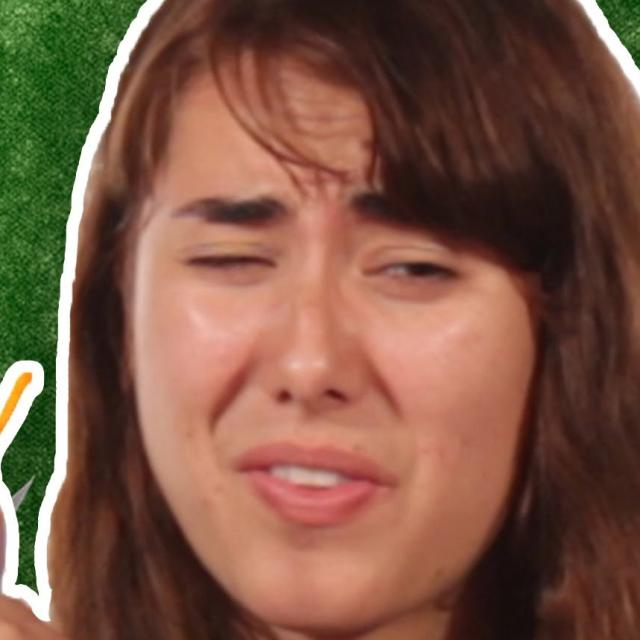Depress: (133, 72, 539, 632)
